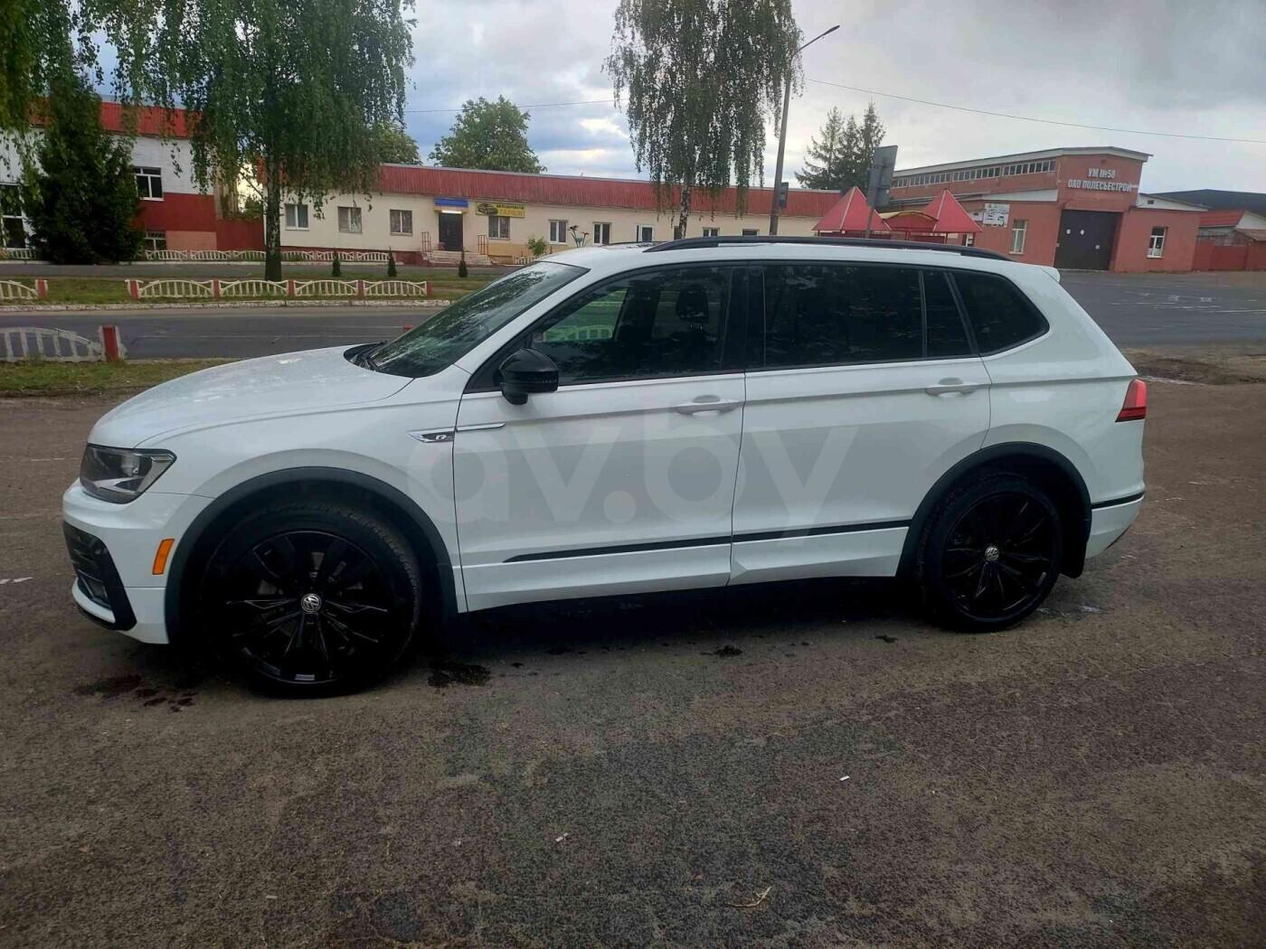Tiguan_2016-2021: (57, 232, 1150, 696)
